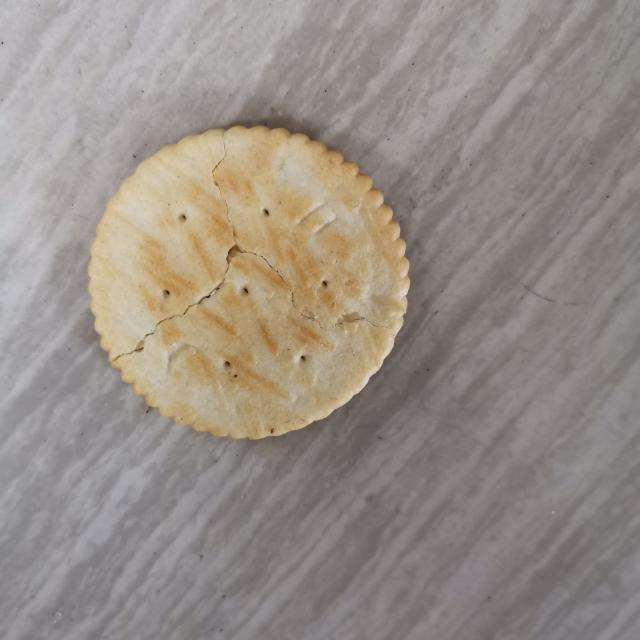Fracture: (104, 124, 404, 383)
